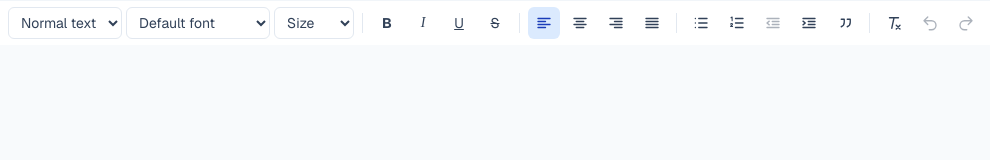
Toolbar › applies font, size, alignment and indentation
The image size is (990, 160).
Select "Georgia" in the 2nd dropdown named "Font" at (198, 23), box [126, 7, 270, 39]
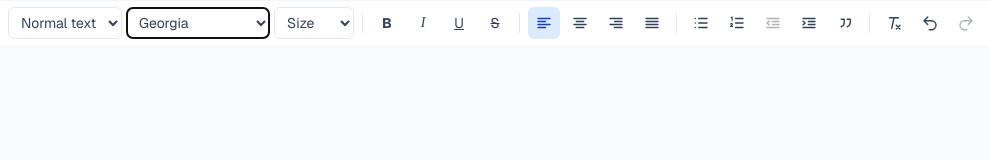
Select "24" in the 3rd dropdown named "Font size" at (314, 23), box [274, 7, 354, 39]
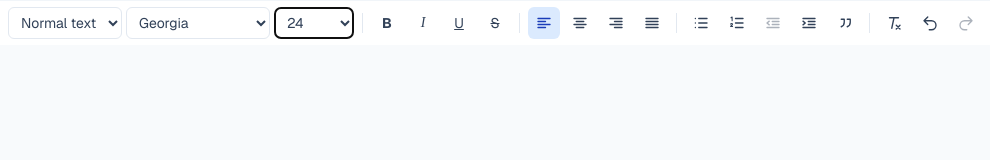
Click the button named "Align center" at (580, 23), box [564, 7, 596, 39]
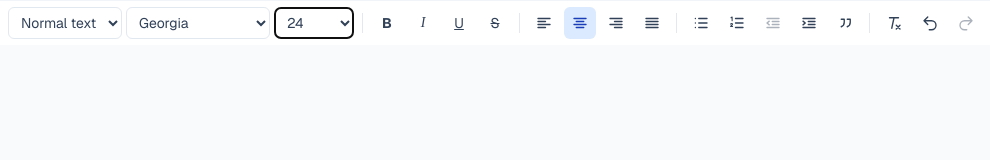
Click the button named "Increase indent" at (809, 23), box [793, 7, 825, 39]
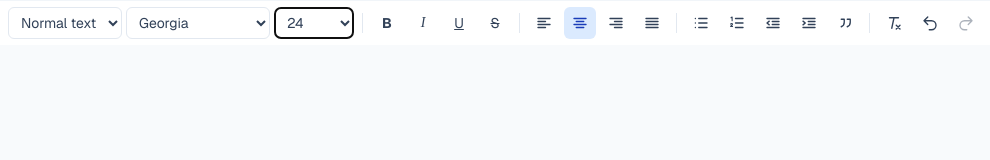
Result: the button named "Decrease indent" is enabled
Click the button named "Decrease indent" at (773, 23), box [757, 7, 789, 39]
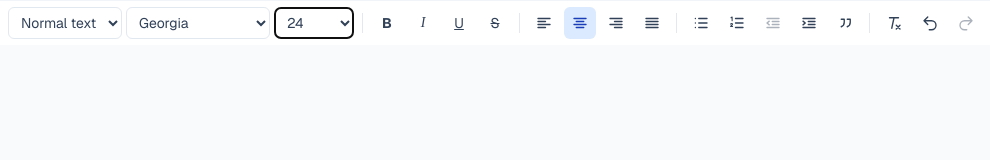
Result: the button named "Decrease indent" is disabled at [757, 7, 789, 39]
